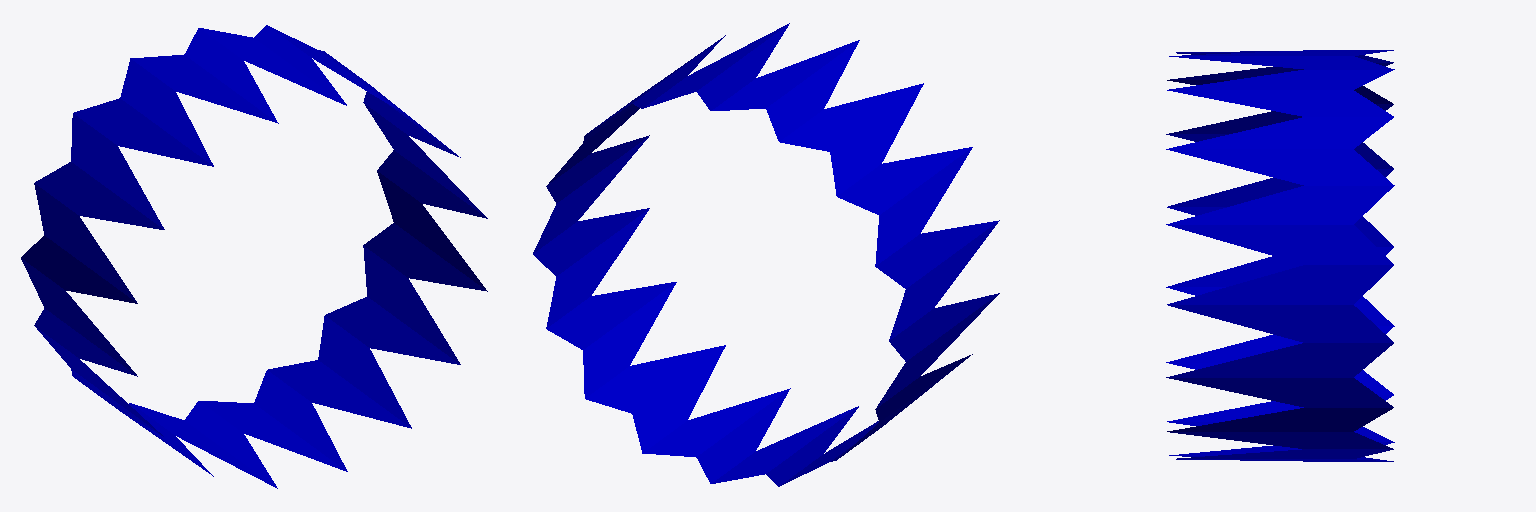
Rendered from Acceleratore.obj.
The picture shows the model from 3 angles: view 1: azimuth 30°, elevation 25°; view 2: azimuth 150°, elevation 25°; view 3: azimuth 270°, elevation 25°; orthographic projection.
Parts seen in each view (by area): view 1: Circle; view 2: Circle; view 3: Circle.
Part boxes in pixels (x1,y1,x2,y2): Circle: (21, 25, 487, 488); Circle: (533, 23, 999, 486); Circle: (1166, 50, 1394, 461).
Size of the model in its own units: 2 by 2 by 1.11.